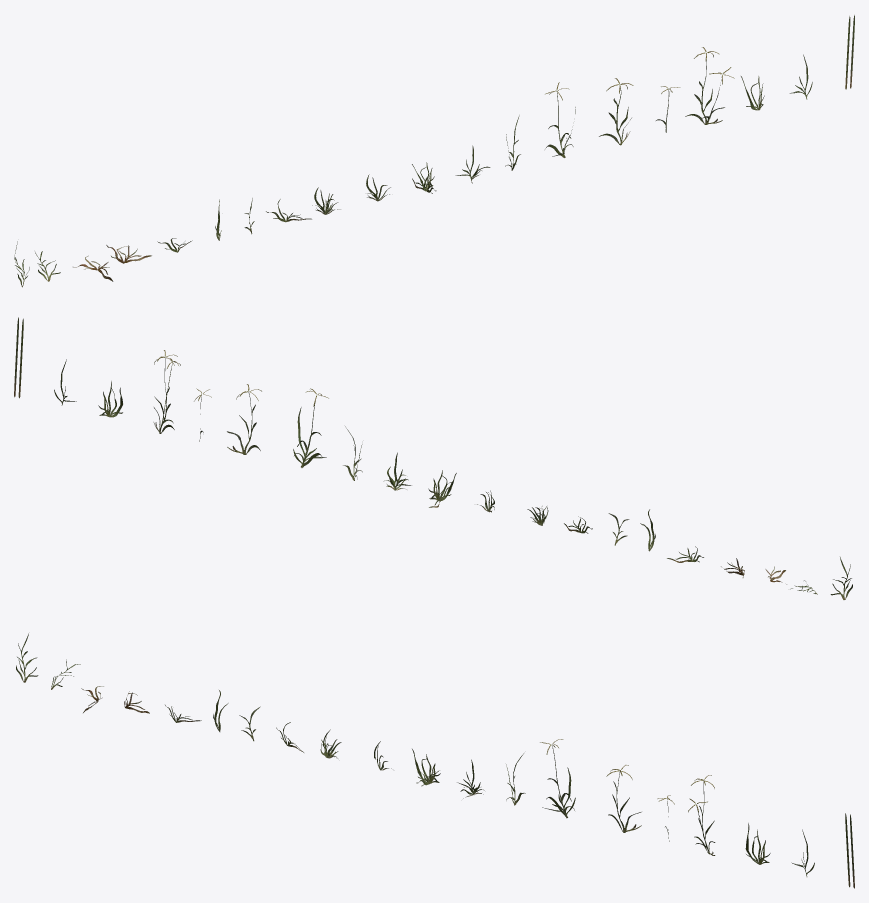
The model's file is grass_bermuda_01.glb.
The picture shows the model from 3 angles, top to bottom: view 1: azimuth 30°, elevation 25°; view 2: azimuth 150°, elevation 25°; view 3: azimuth 330°, elevation 25°; orthographic projection.
Bounding box in the file's own units: 1.69 × 0.1583 × 0.1422.
Materials: 1 (1 with a texture image).
